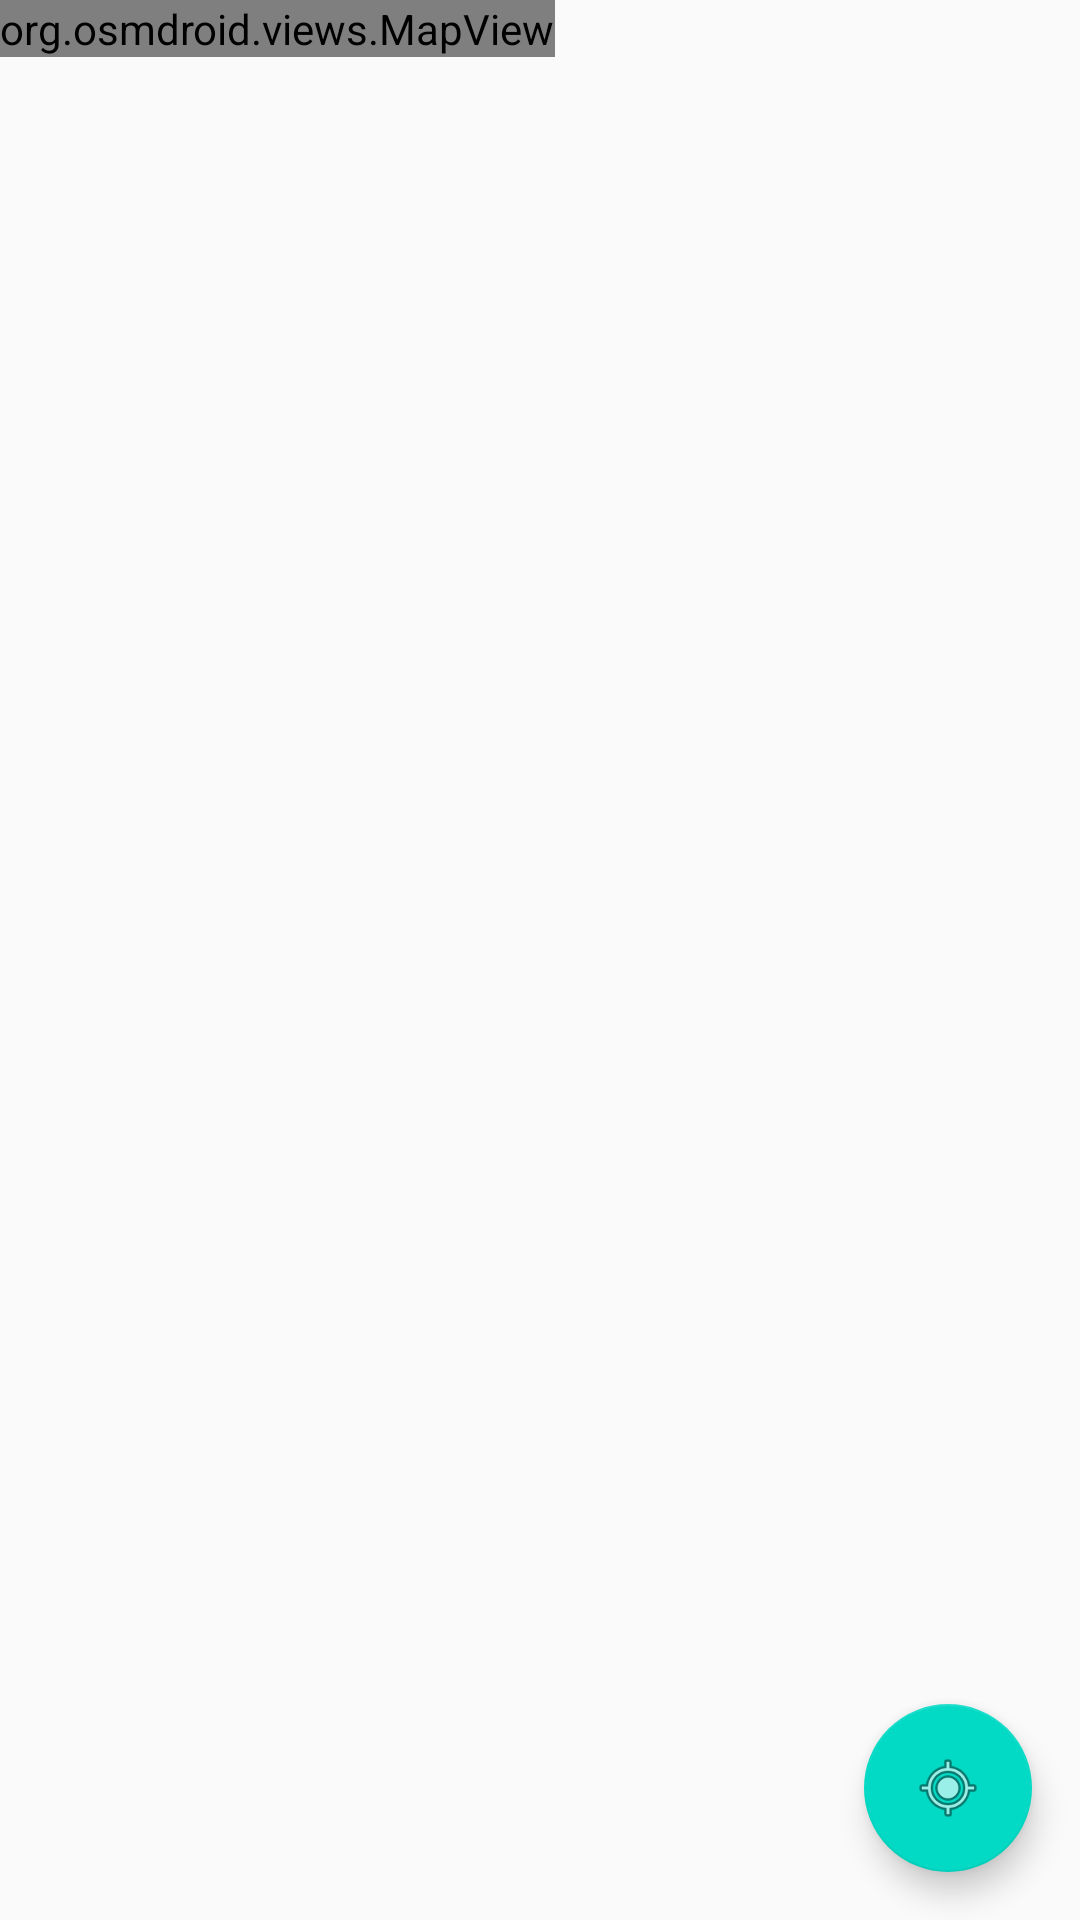

Where to tap for icons on this 1080 × 1920 app screen, as [x,y]:
mylocation: [948,1788]
